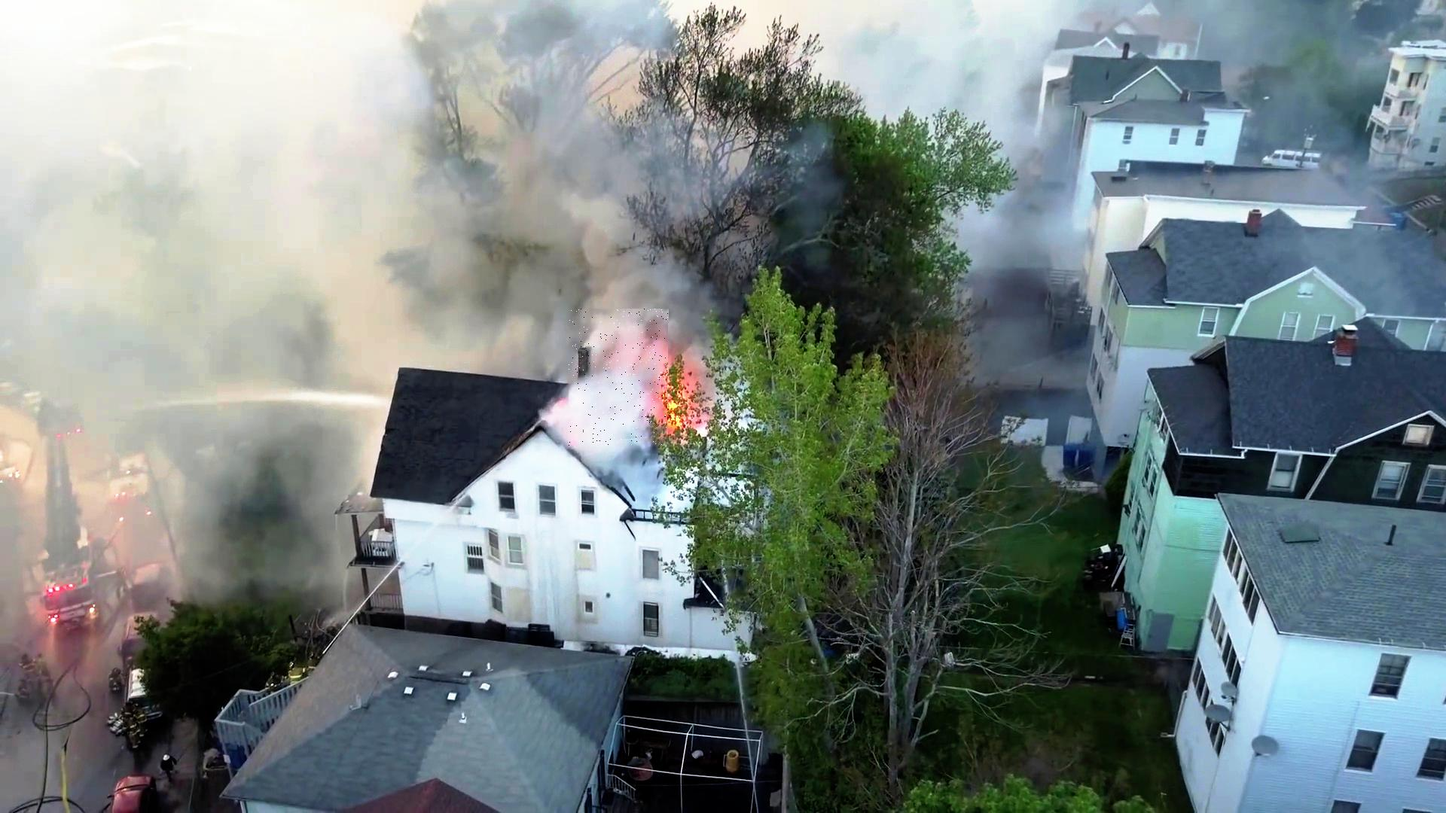smoke: (569, 309, 669, 446)
